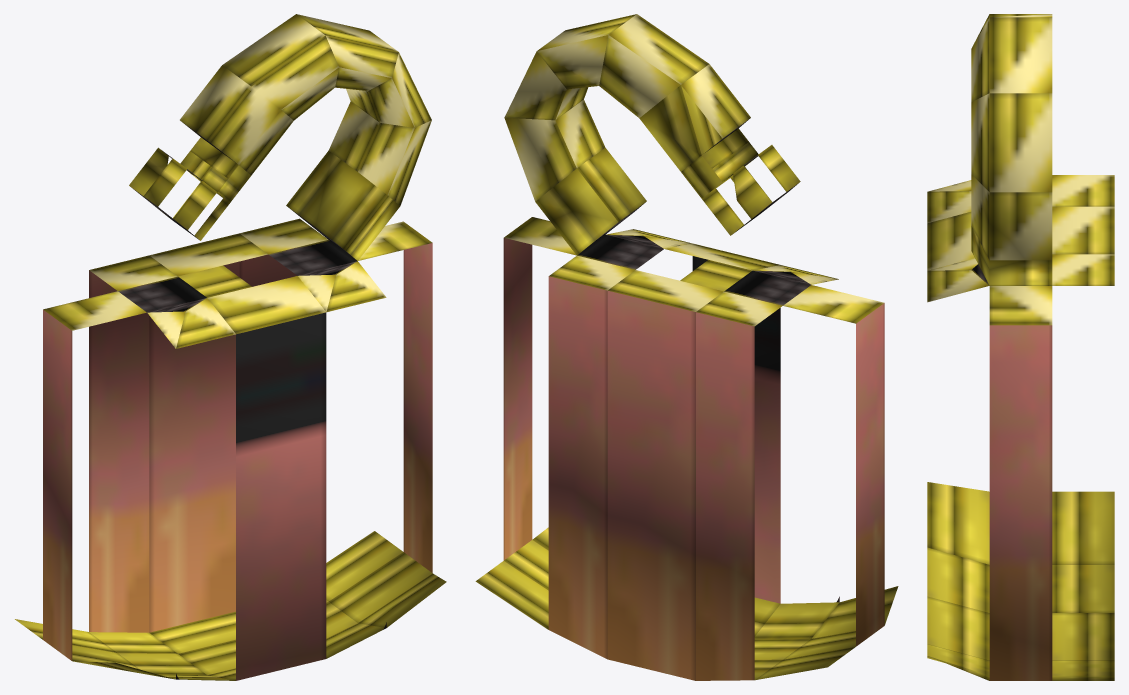
3 views of the same model, side by side, from view 1: azimuth 30°, elevation 25°; view 2: azimuth 150°, elevation 25°; view 3: azimuth 270°, elevation 25° (orthographic). The views are drawn at different scales.
Parts seen in each view (by area): view 1: T1L4M002_23; view 2: T1L4M002_23; view 3: T1L4M002_23.
Part boxes in pixels (bbox=[...]): T1L4M002_23: bbox=[15, 14, 446, 680]; T1L4M002_23: bbox=[475, 14, 898, 680]; T1L4M002_23: bbox=[927, 14, 1114, 680].
Size of the model in its own units: 0.4795 by 0.7764 by 0.2002.
